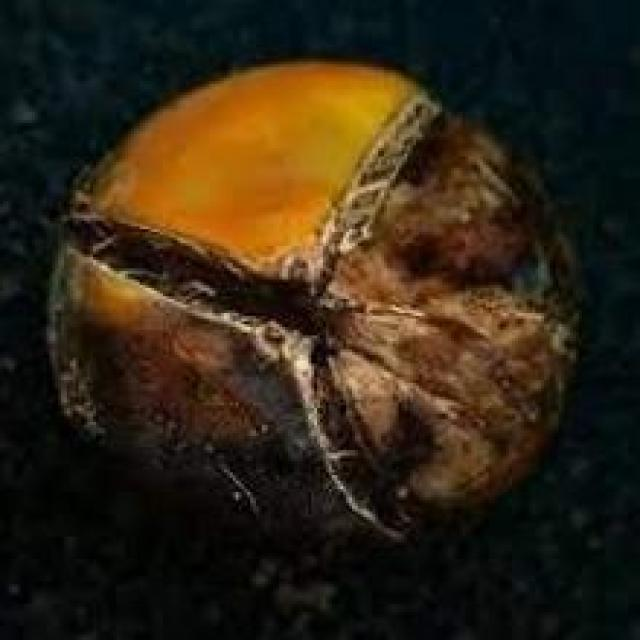damaged: (52, 59, 591, 545)
